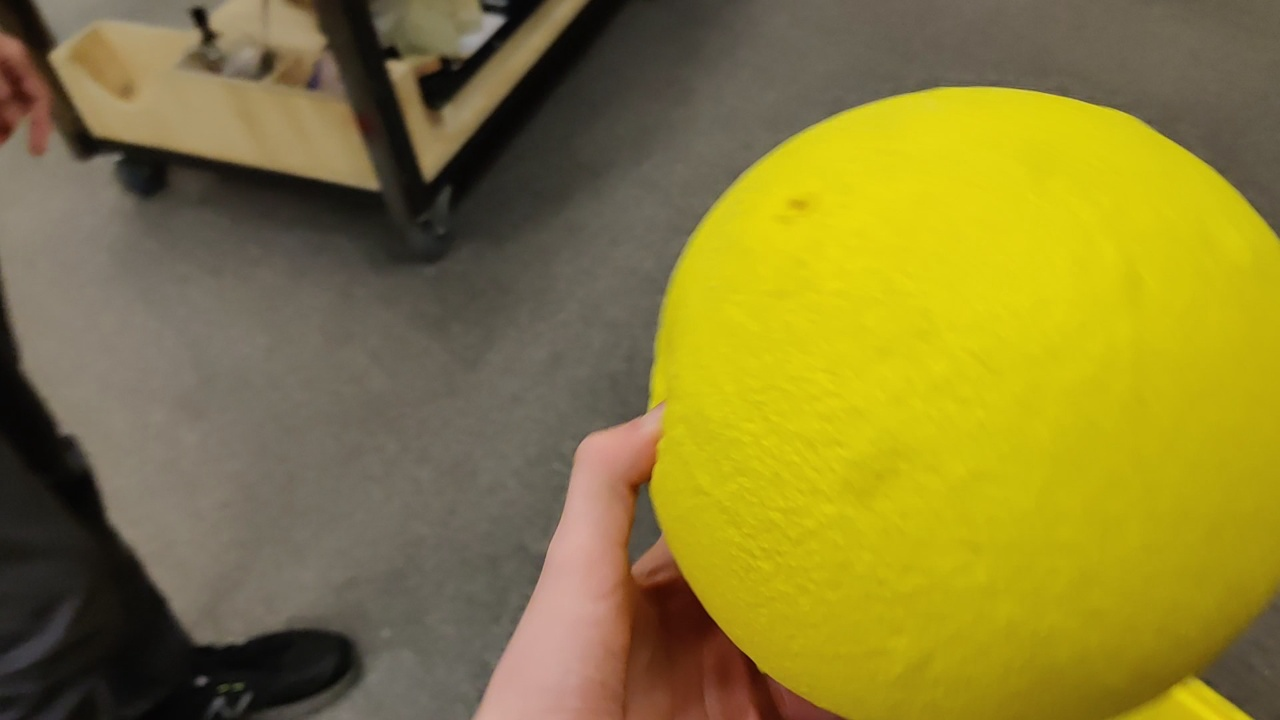Ball: (645, 86, 1279, 720)
